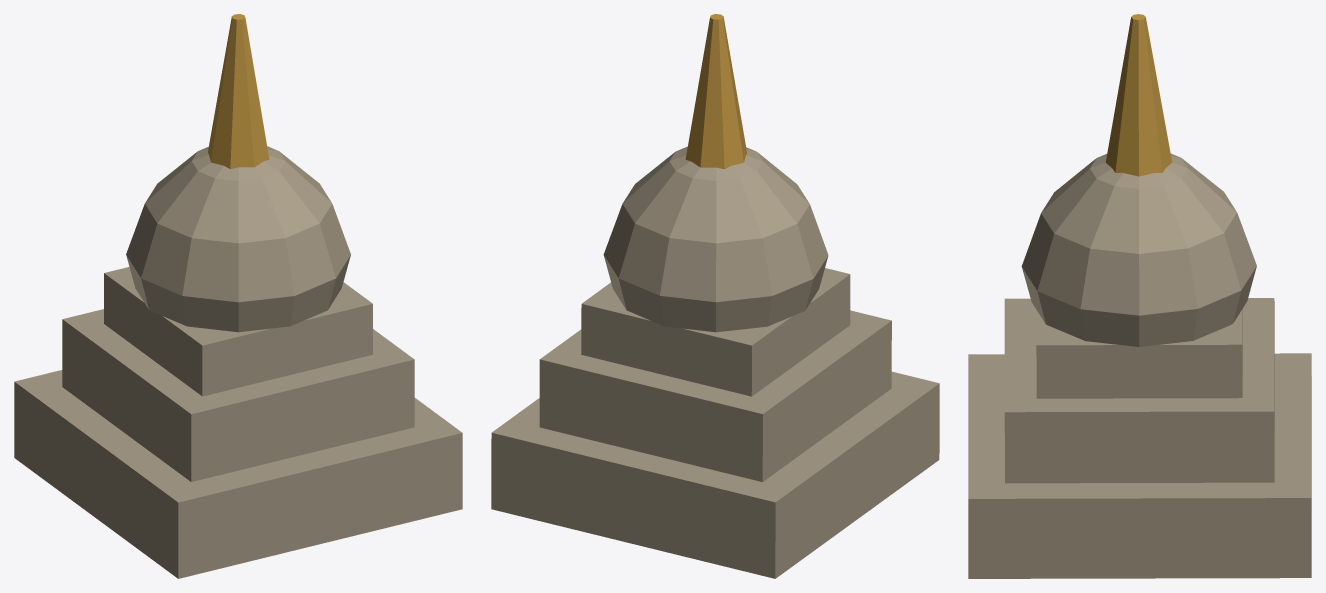
Rendered from chaitya.glb.
The picture shows the model from 3 angles, left to right: view 1: azimuth 30°, elevation 25°; view 2: azimuth 150°, elevation 25°; view 3: azimuth 270°, elevation 25°; orthographic projection. The views are drawn at different scales.
Visible parts, largest first — view 1: Chaitya_01.002; view 2: Chaitya_01.002; view 3: Chaitya_01.002.
Part boxes in pixels (bbox=[...]): Chaitya_01.002: bbox=[14, 14, 462, 578]; Chaitya_01.002: bbox=[491, 14, 939, 578]; Chaitya_01.002: bbox=[968, 14, 1311, 578].
Bounding box in the file's own units: 0.7004 × 1.1 × 0.7007.
